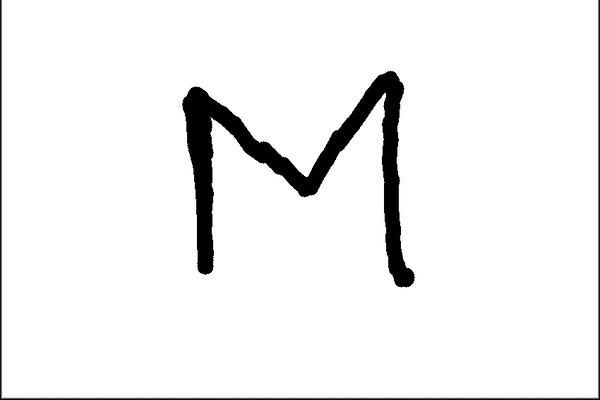M: (183, 69, 428, 288)
